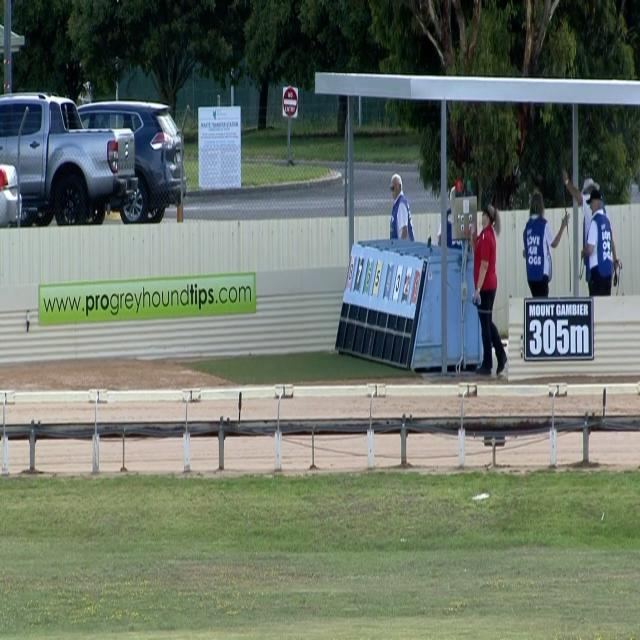rail: (0, 413, 640, 441)
